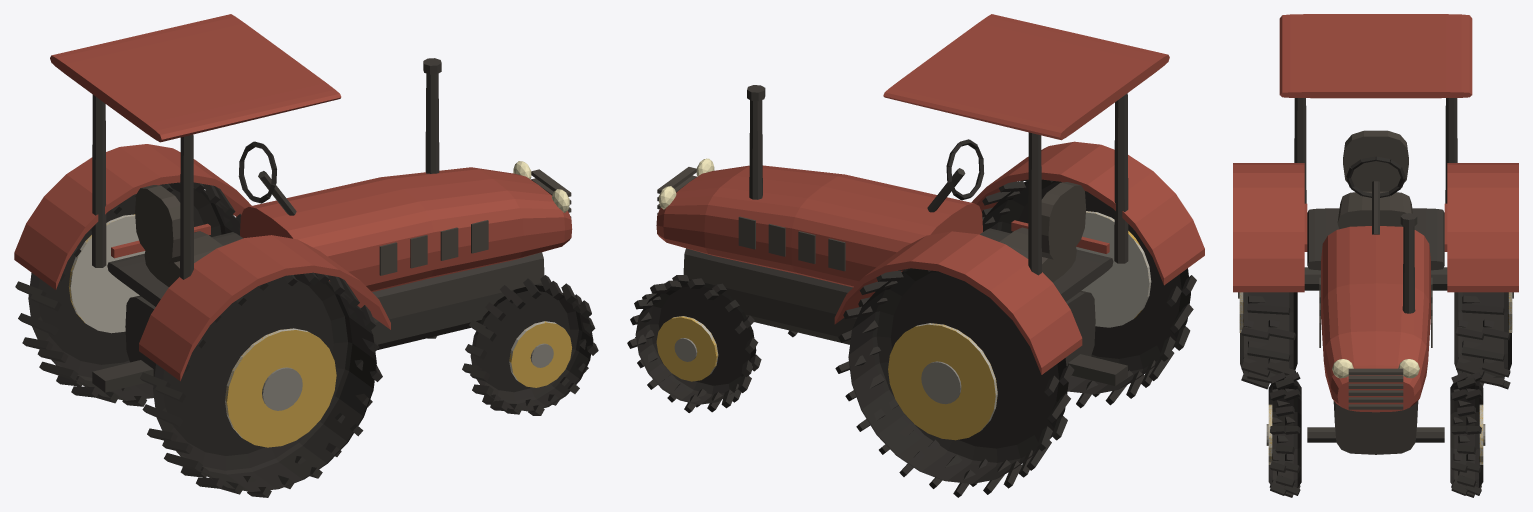
Rendered from traktor-kiremit.glb.
3 views of the same model, side by side, from view 1: azimuth 30°, elevation 25°; view 2: azimuth 150°, elevation 25°; view 3: azimuth 270°, elevation 25° (orthographic). The views are drawn at different scales.
Parts seen in each view (by area): view 1: a_kiremit, lastik, demir, a_hardal, ic, jant, tampon; view 2: a_kiremit, lastik, demir, a_hardal, ic, jant, tampon; view 3: a_kiremit, lastik, demir, ic, jant, far, a_hardal.
Part boxes in pixels (bbox=[...]): a_kiremit: bbox=[14, 14, 572, 381]; lastik: bbox=[15, 141, 598, 497]; demir: bbox=[92, 58, 544, 392]; a_hardal: bbox=[69, 214, 571, 447]; ic: bbox=[135, 169, 571, 286]; jant: bbox=[69, 214, 562, 437]; tampon: bbox=[262, 343, 553, 410]; a_kiremit: bbox=[656, 14, 1204, 374]; lastik: bbox=[627, 139, 1196, 497]; demir: bbox=[683, 85, 1128, 385]; a_hardal: bbox=[656, 212, 1141, 440]; ic: bbox=[657, 167, 1086, 282]; jant: bbox=[673, 211, 1151, 430]; tampon: bbox=[674, 338, 961, 404]; a_kiremit: bbox=[1233, 14, 1518, 412]; lastik: bbox=[1240, 156, 1511, 497]; demir: bbox=[1294, 98, 1457, 454]; ic: bbox=[1319, 130, 1432, 409]; jant: bbox=[1239, 292, 1512, 464]; far: bbox=[1332, 359, 1419, 378]; a_hardal: bbox=[1239, 292, 1512, 464].
Bounding box in the file's own units: 3.35 × 2.6 × 2.08.
